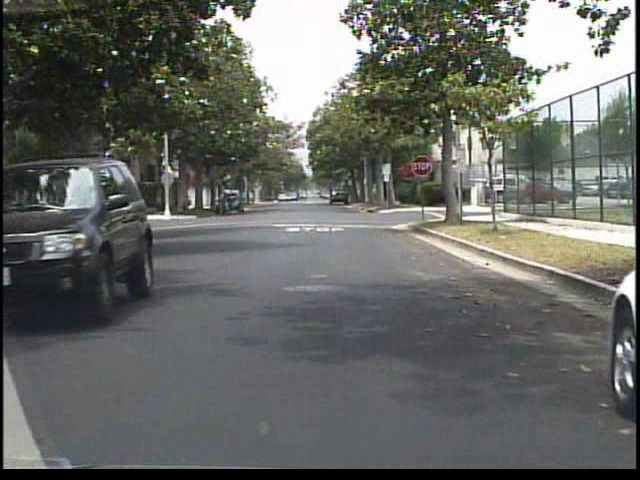person: (217, 179, 239, 220)
